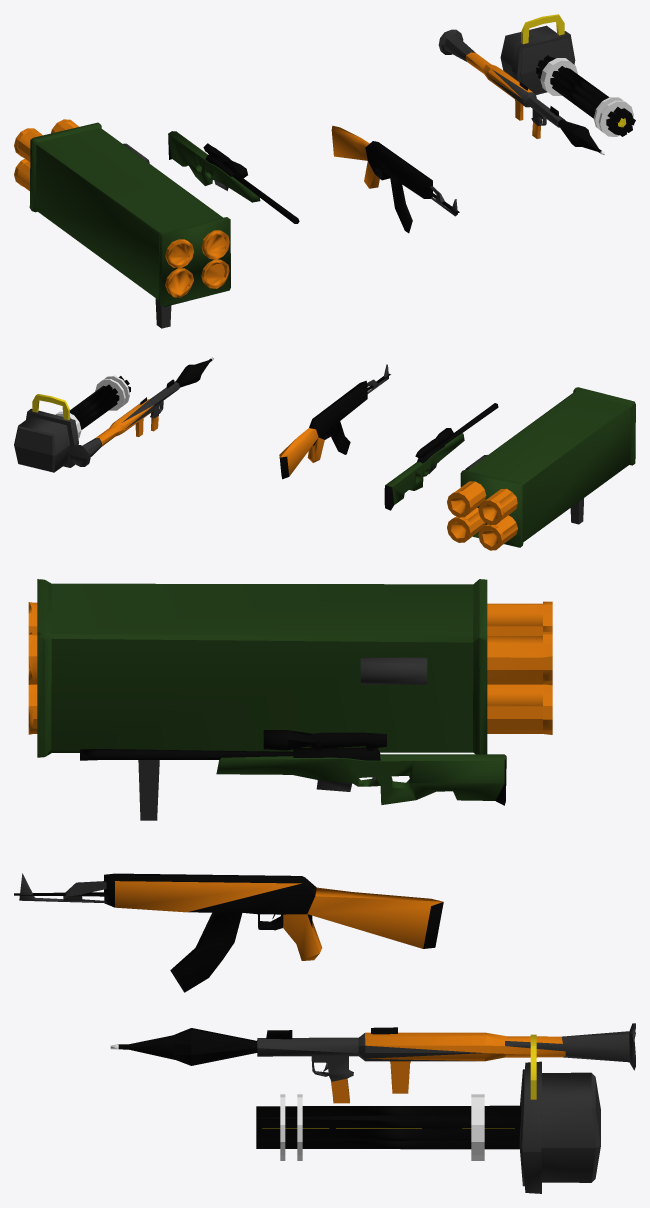
Rendered from Weapon.fbx.
3 renders of one model, top to bottom at view 1: azimuth 30°, elevation 25°; view 2: azimuth 150°, elevation 25°; view 3: azimuth 270°, elevation 25°, orthographic. The views are drawn at different scales.
Parts seen in each view (by area): view 1: Weapon_01, Weapon_09, Weapon_03, Weapon_08, Weapon_06; view 2: Weapon_01, Weapon_09, Weapon_03, Weapon_08, Weapon_06; view 3: Weapon_01, Weapon_09, Weapon_03, Weapon_08, Weapon_06.
Boxes of the visible parts, x1,y1,x2,y2 form: Weapon_01: [14, 119, 230, 328]; Weapon_09: [500, 14, 635, 136]; Weapon_03: [331, 125, 459, 233]; Weapon_08: [438, 29, 604, 154]; Weapon_06: [168, 131, 299, 223]; Weapon_01: [447, 387, 635, 550]; Weapon_09: [14, 375, 130, 472]; Weapon_03: [279, 364, 390, 479]; Weapon_08: [69, 357, 213, 466]; Weapon_06: [384, 403, 498, 510]; Weapon_01: [28, 579, 552, 820]; Weapon_09: [256, 1034, 600, 1193]; Weapon_03: [14, 873, 443, 992]; Weapon_08: [110, 1023, 635, 1103]; Weapon_06: [80, 730, 506, 805].
Bounding box in the file's own units: 197 × 41.83 × 112.
